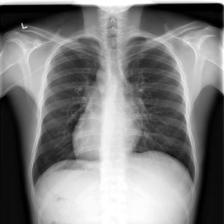normal: (27, 33, 197, 188)
